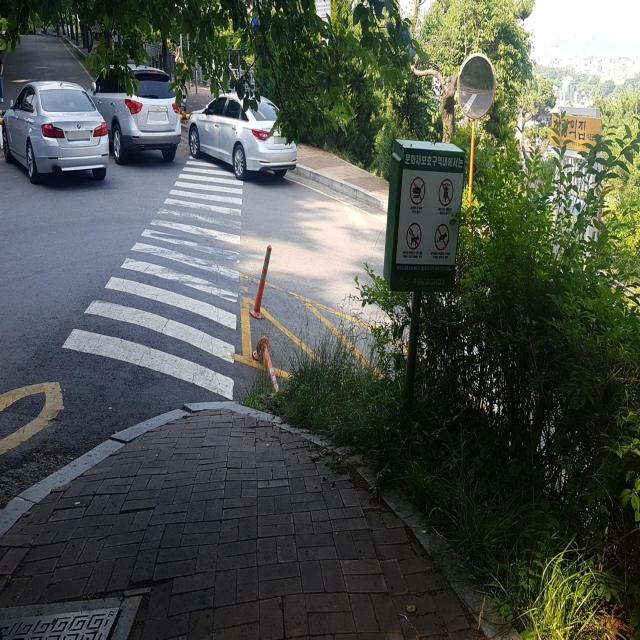횡단보도: (61, 150, 246, 406)
